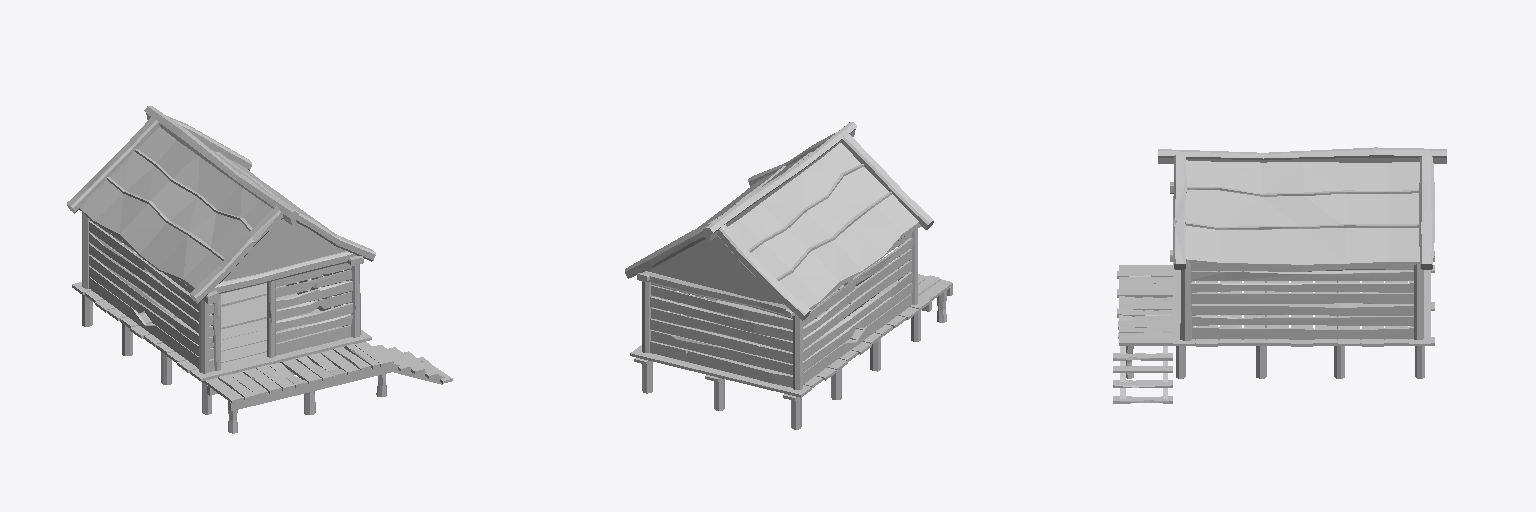
Rendered from Building_3_Wall_On_1.obj.
3 renders of one model, left to right at view 1: azimuth 30°, elevation 25°; view 2: azimuth 150°, elevation 25°; view 3: azimuth 270°, elevation 25°, orthographic.
Visible parts, largest first — view 1: Building_3_Wall_On_1; view 2: Building_3_Wall_On_1; view 3: Building_3_Wall_On_1.
Part boxes in pixels (x1,y1,x2,y2): Building_3_Wall_On_1: (67,106,452,433); Building_3_Wall_On_1: (625,122,952,429); Building_3_Wall_On_1: (1113,147,1446,403).
Bounding box in the file's own units: 6.4 × 5.16 × 8.11.